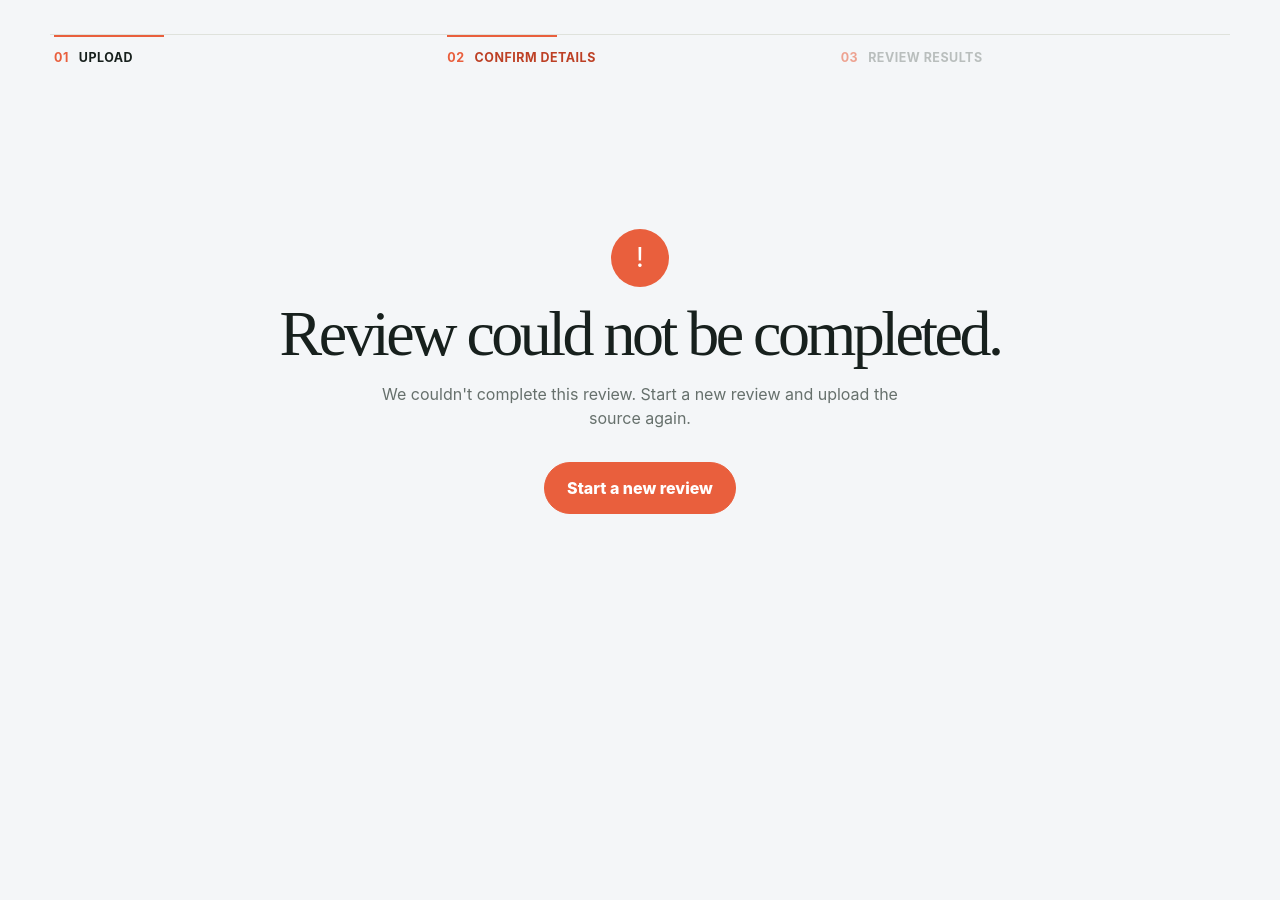
Test: upload-first review flow › renders a safe recovery action for failed reviews
Expected: the heading "Review could not be completed." is shown, [280,303,1000,366]
Click the button "Start a new review" at (640, 488), box [544,462,736,514]
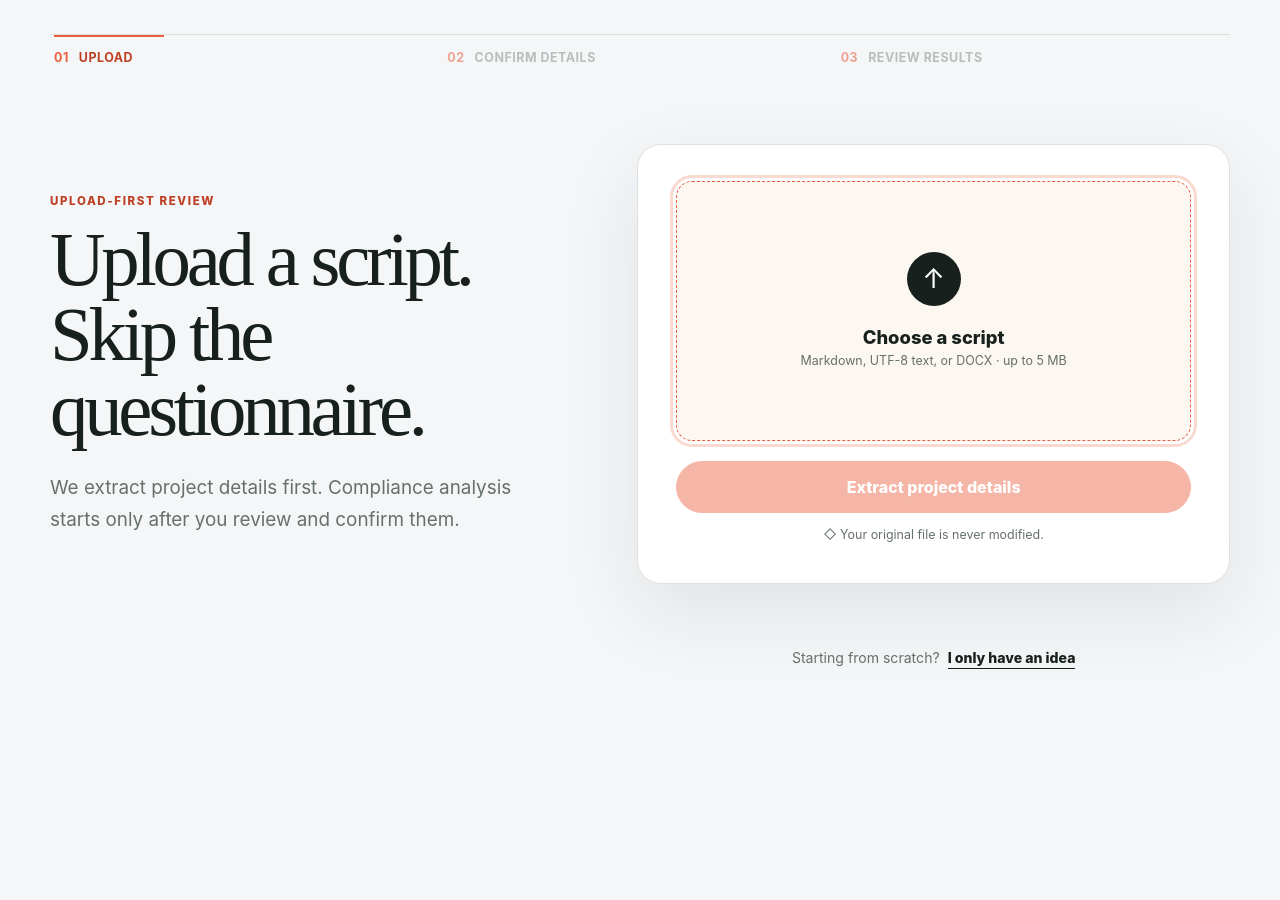
Now the heading "Upload a script. Skip the questionnaire." is shown, box [50,222,535,448]
